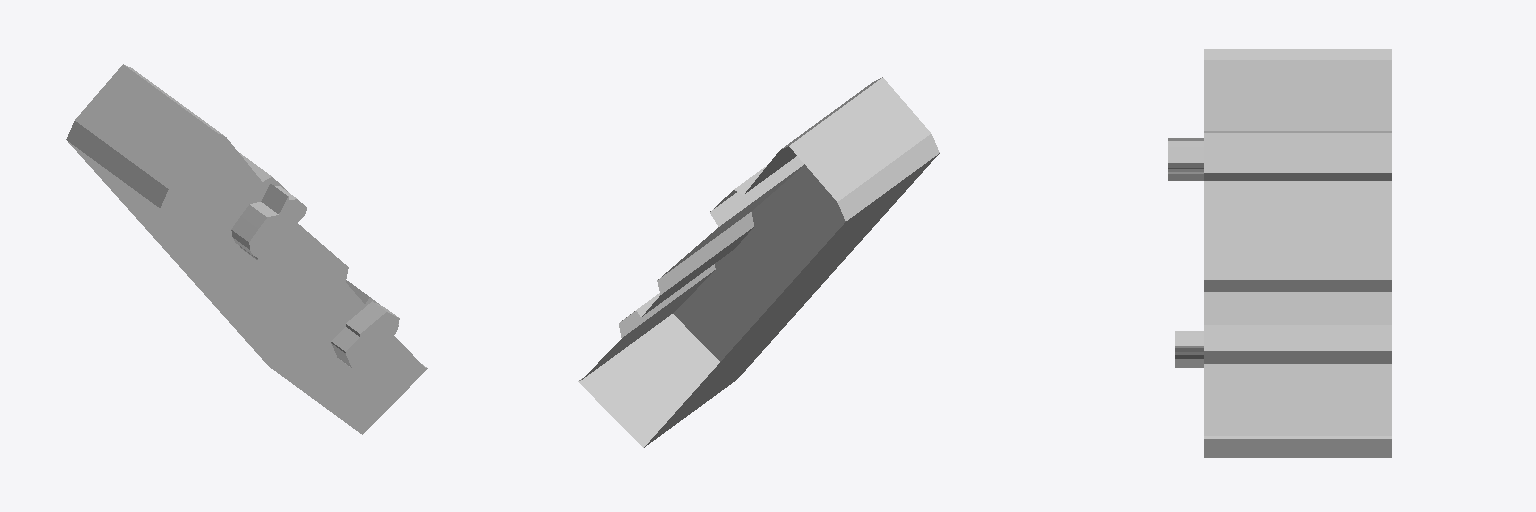
File: TextureModel_BLD_Body_2.obj
The picture shows the model from 3 angles: view 1: azimuth 30°, elevation 25°; view 2: azimuth 150°, elevation 25°; view 3: azimuth 270°, elevation 25°; orthographic projection.
Bounding box in the file's own units: 44.22 × 53.25 × 32.